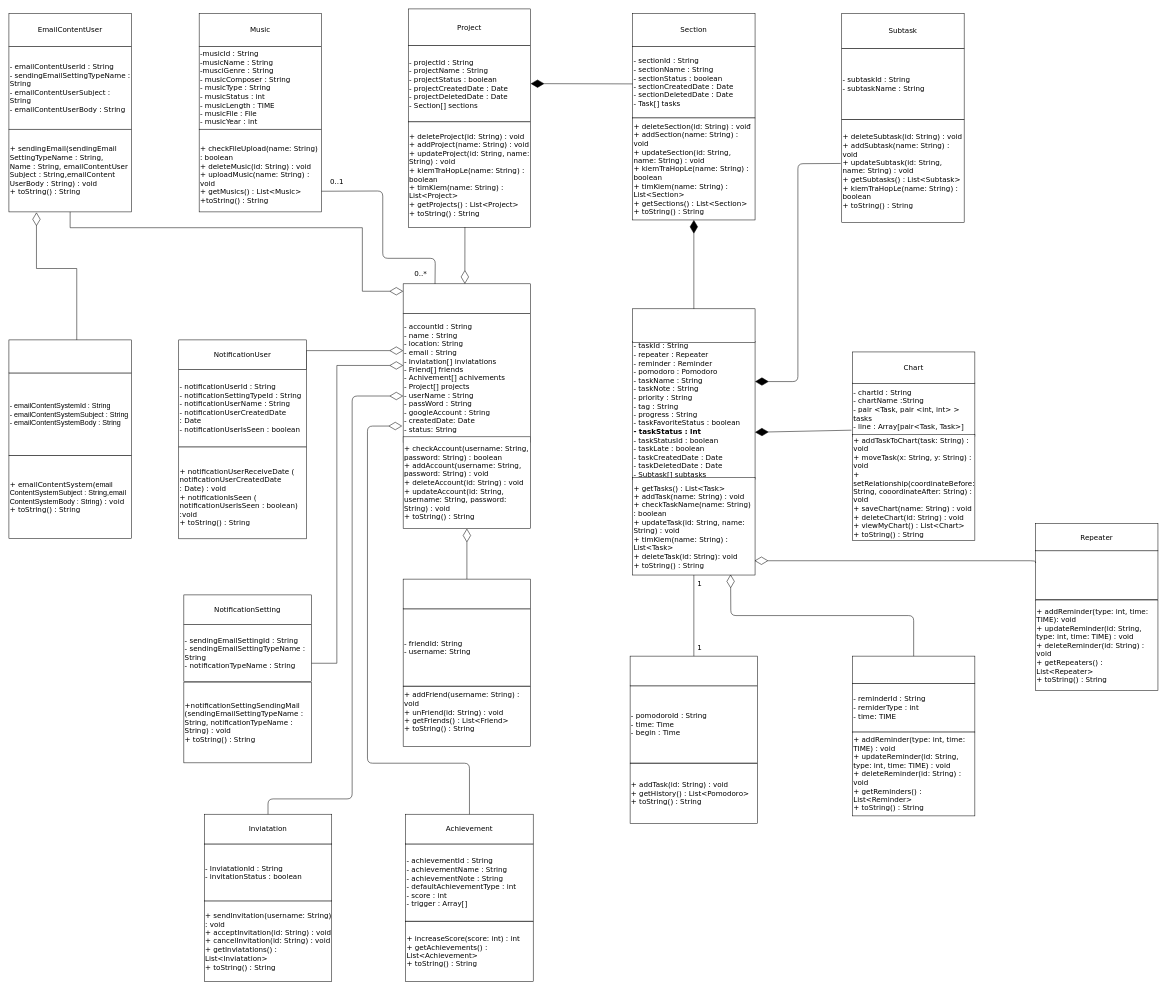
Image size: 1167x991. Some labels were removed from this diagram. The shapes that lost their labels are listed below. From the top down, each one's centre as x and y in pixels, then its label:
the point at 467,298: Account
the point at 693,325: Task
the point at 69,356: EmailContentSystem
the point at 467,594: Friend
the point at 1096,574: - repeaterId : String - remiderType : int - time : TIME - rate : int
the point at 694,671: Pomodoro
the point at 913,669: Reminder
